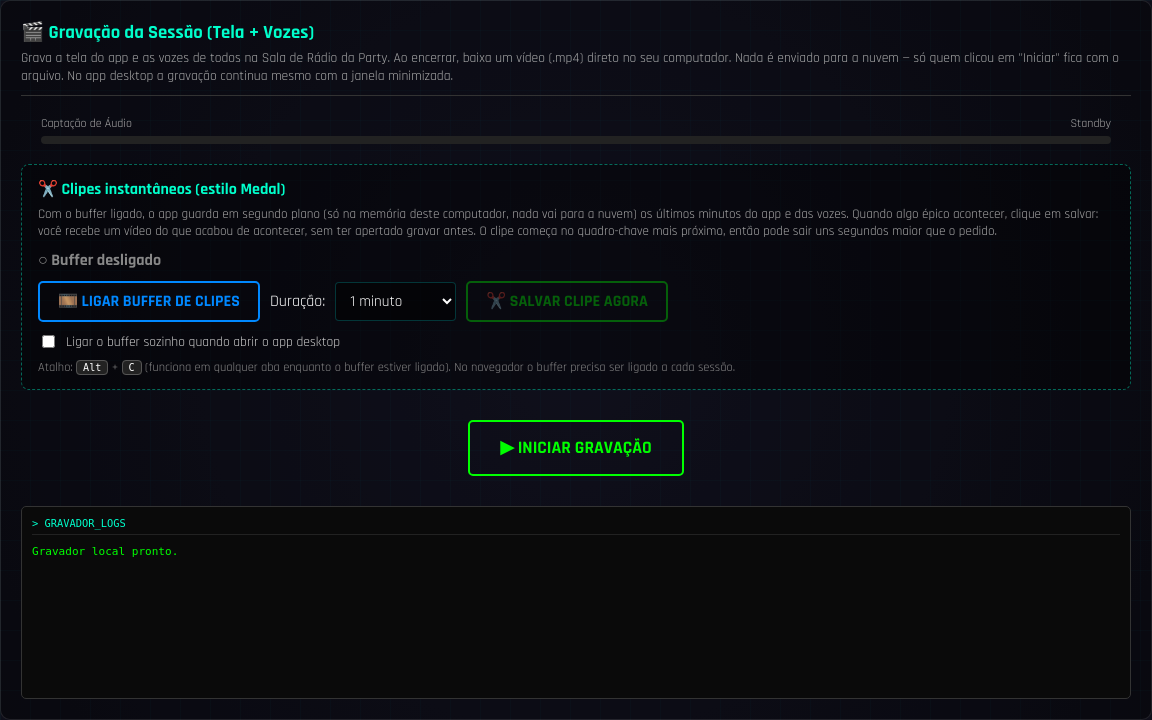
Test case: GravadorPanel — tela do app e vozes da Sala de Rádio › releases the screen capture when the microphone request fails
Click the button "▶ INICIAR GRAVAÇÃO". click: (576, 448)
box: left=468, top=420, right=684, bottom=476
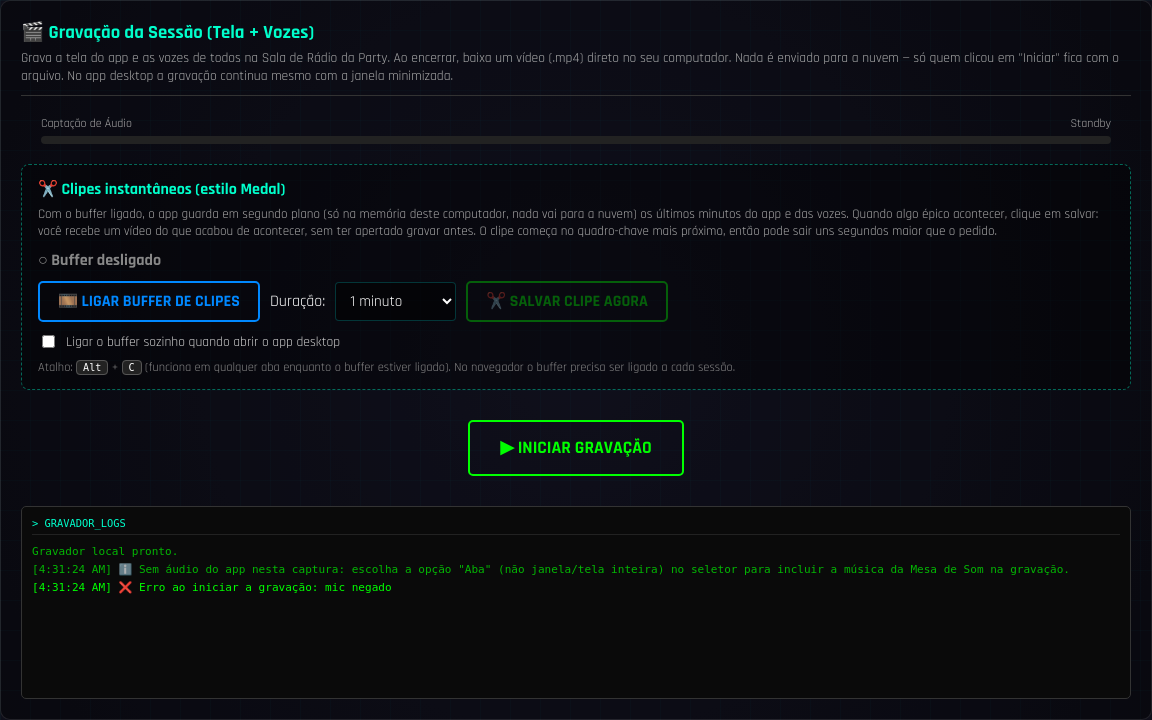
Check: the text "[4:31:24 AM] ❌ Erro ao iniciar a gravação: mic negado" is shown, box left=32, top=581, right=392, bottom=594
